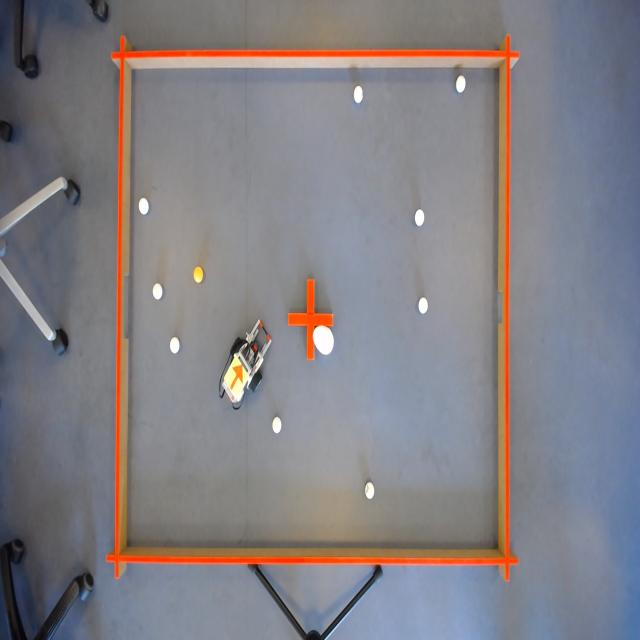cross: (287, 278, 335, 364)
egg: (312, 324, 336, 358)
orange_ball: (192, 263, 204, 287)
robot: (224, 355, 250, 399)
white_ball: (270, 414, 284, 438), (416, 294, 430, 318), (412, 206, 426, 230), (151, 280, 164, 304), (137, 195, 150, 218), (168, 334, 180, 357), (364, 479, 376, 502), (455, 72, 467, 94), (352, 84, 363, 105)
